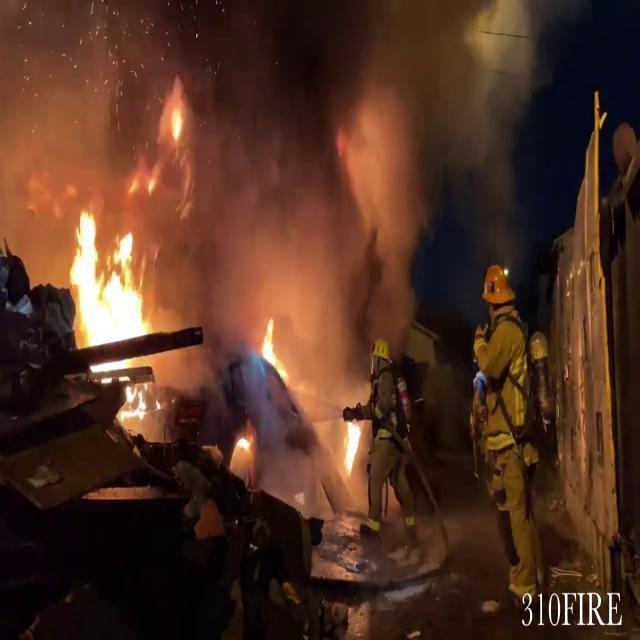Fire: (64, 205, 161, 352), (336, 412, 366, 475)
Smoke: (182, 1, 444, 454), (0, 0, 229, 291)
